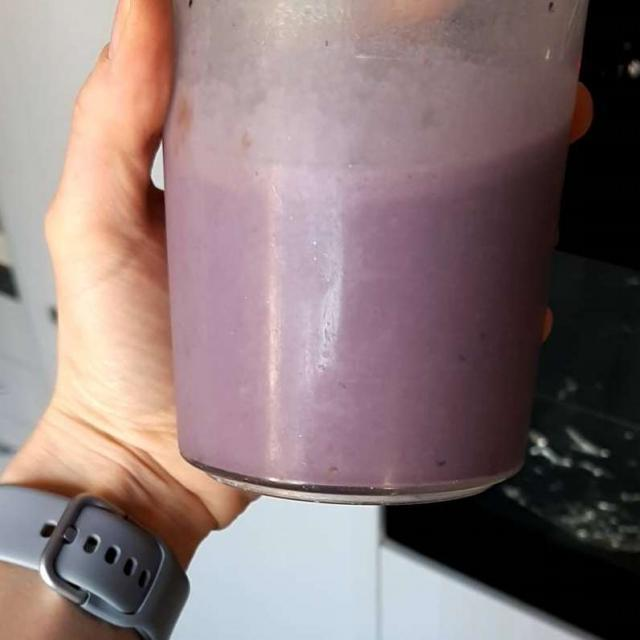milk: (174, 38, 548, 481)
